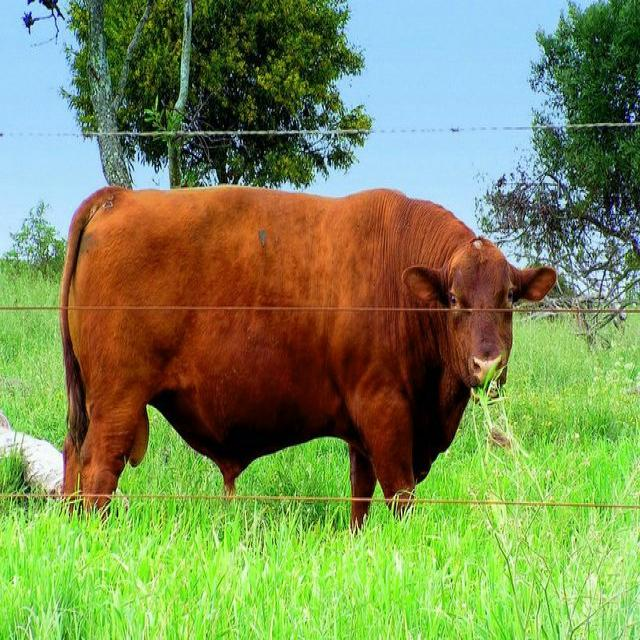cow: (60, 187, 555, 507)
